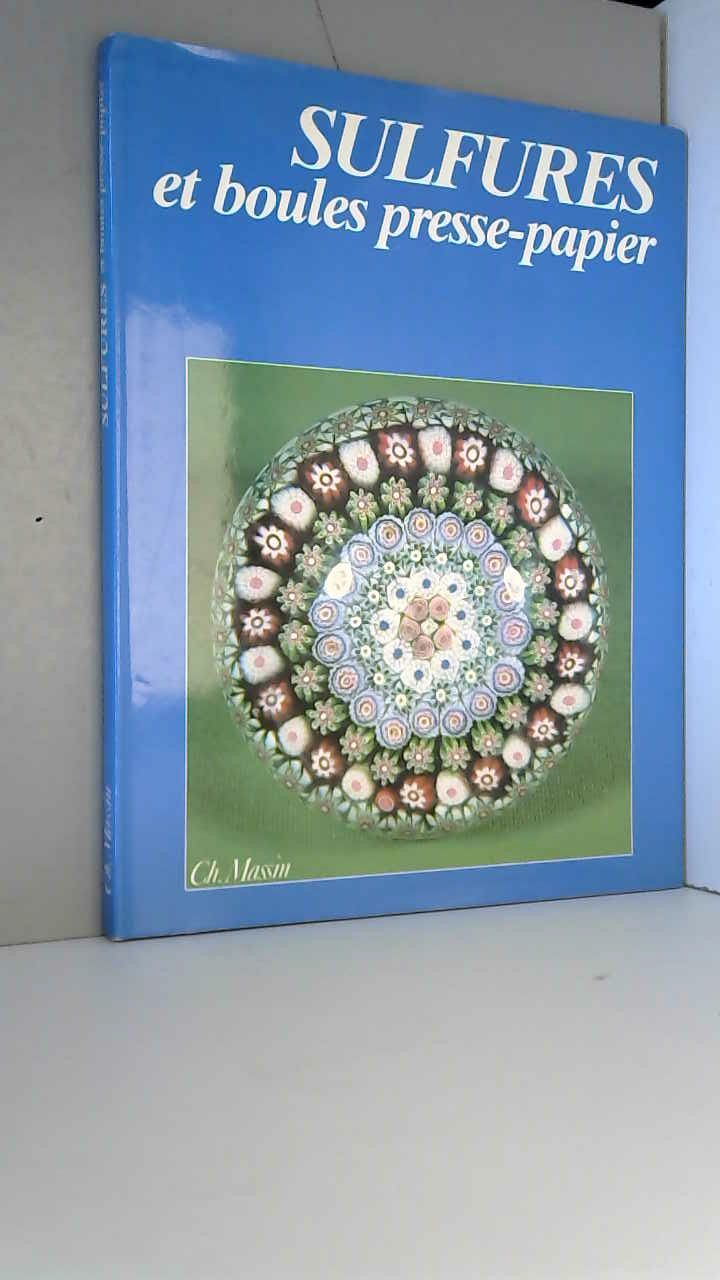book: (70, 0, 720, 935)
